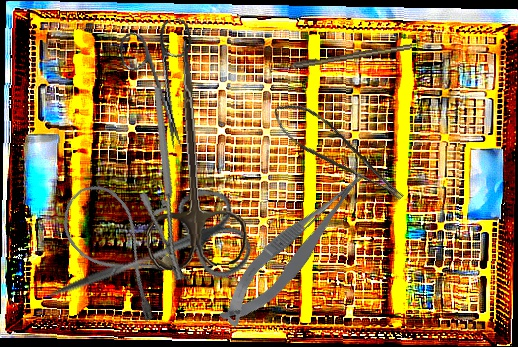Cannula: (47, 173, 195, 326)
Hook Surgical: (274, 43, 413, 72)
Iris Scissors: (31, 178, 258, 343), (129, 36, 250, 272), (115, 16, 215, 156)
Micro Scissor: (204, 163, 387, 335), (266, 89, 408, 222)
Needle Holder: (112, 86, 225, 282)
